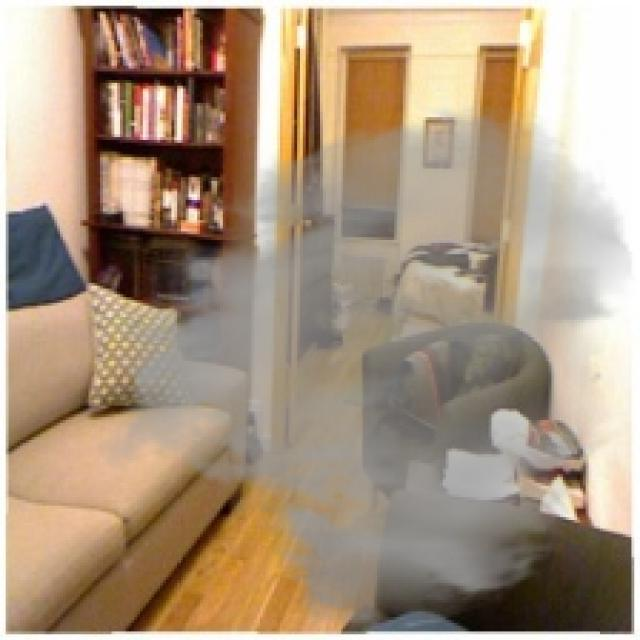Smoke: (94, 100, 637, 634)
